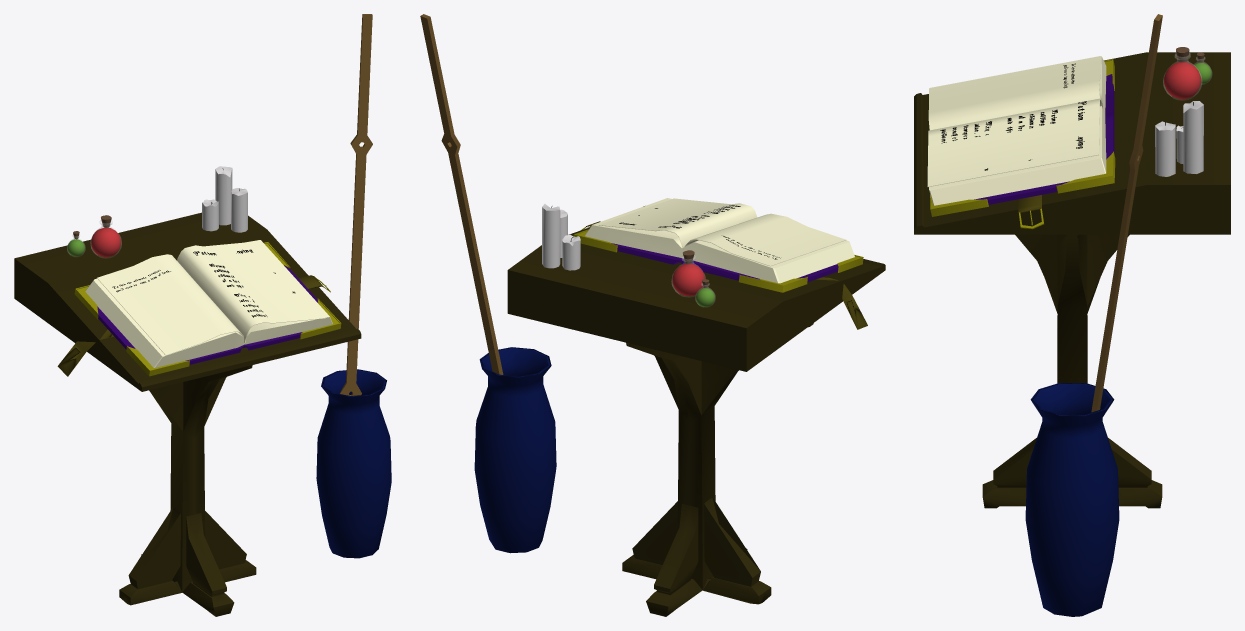
The model's file is lectern.glb.
The picture shows the model from 3 angles, left to right: view 1: azimuth 30°, elevation 25°; view 2: azimuth 150°, elevation 25°; view 3: azimuth 270°, elevation 25°; orthographic projection. The views are drawn at different scales.
Visible parts, largest first — view 1: LecternTop, LecternBase, Staff_Vase, RightSinglePage, LeftSinglePage, StackOfPages, Aang_s_Staff, BookHardCover, Tall_Candle, Large_Potion, Medium_Candle, LargePotionLiquid (+3 smaller); view 2: LecternTop, LecternBase, Staff_Vase, StackOfPages, LeftSinglePage, Aang_s_Staff, RightSinglePage, BookHardCover, Tall_Candle, Large_Potion, LargePotionLiquid, Small_Candle (+1 smaller); view 3: LecternTop, Staff_Vase, LecternBase, RightSinglePage, LeftSinglePage, StackOfPages, Aang_s_Staff, Tall_Candle, BookHardCover, Large_Potion, LargePotionLiquid, Medium_Candle (+3 smaller).
Part boxes in pixels (bbox=[...]): LecternTop: bbox=[14, 212, 361, 391]; LecternBase: bbox=[119, 365, 256, 616]; Staff_Vase: bbox=[316, 369, 391, 558]; RightSinglePage: bbox=[177, 241, 325, 342]; LeftSinglePage: bbox=[97, 254, 244, 355]; StackOfPages: bbox=[85, 240, 332, 367]; Aang_s_Staff: bbox=[340, 14, 372, 395]; BookHardCover: bbox=[97, 265, 317, 364]; Tall_Candle: bbox=[215, 166, 232, 225]; Large_Potion: bbox=[90, 220, 121, 257]; Medium_Candle: bbox=[231, 188, 247, 232]; LargePotionLiquid: bbox=[91, 227, 120, 257]; LecternTop: bbox=[507, 206, 885, 371]; LecternBase: bbox=[622, 323, 813, 616]; Staff_Vase: bbox=[474, 347, 556, 553]; StackOfPages: bbox=[585, 198, 854, 283]; LeftSinglePage: bbox=[684, 213, 846, 266]; Aang_s_Staff: bbox=[420, 14, 503, 374]; RightSinglePage: bbox=[598, 198, 757, 247]; BookHardCover: bbox=[611, 243, 838, 282]; Tall_Candle: bbox=[542, 204, 560, 268]; Large_Potion: bbox=[671, 255, 705, 296]; LargePotionLiquid: bbox=[672, 263, 704, 296]; Small_Candle: bbox=[562, 234, 580, 270]; LecternTop: bbox=[914, 52, 1230, 234]; Staff_Vase: bbox=[1025, 383, 1119, 616]; LecternBase: bbox=[982, 234, 1162, 508]; RightSinglePage: bbox=[927, 98, 1101, 186]; LeftSinglePage: bbox=[928, 56, 1101, 130]; StackOfPages: bbox=[929, 56, 1106, 205]; Aang_s_Staff: bbox=[1091, 14, 1162, 412]; Tall_Candle: bbox=[1183, 101, 1203, 173]; BookHardCover: bbox=[974, 74, 1114, 204]; Large_Potion: bbox=[1163, 53, 1202, 99]; LargePotionLiquid: bbox=[1164, 62, 1201, 99]; Medium_Candle: bbox=[1155, 121, 1175, 176].
Bounding box in the file's own units: 34.26 × 45.46 × 21.15.
Materials: 4 (4 with a texture image).
